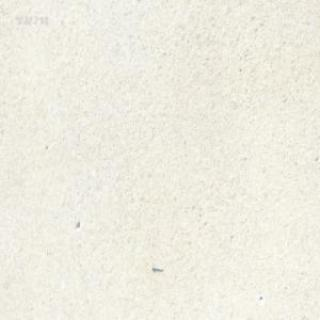Nailtrack_idkeyframe: (151, 263, 163, 271)
